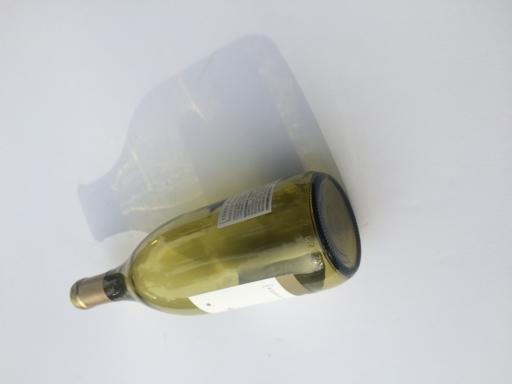botolkaca: (69, 171, 361, 321)
